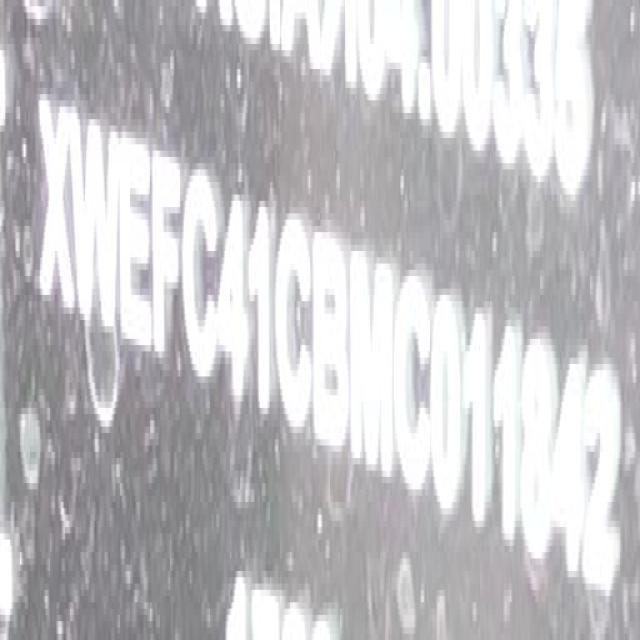0: (431, 297, 465, 521)
1: (494, 317, 520, 544), (462, 304, 487, 533), (252, 197, 273, 420)
2: (584, 366, 622, 593)
4: (548, 349, 582, 572), (217, 187, 249, 406)
8: (522, 333, 554, 557)
B: (311, 237, 349, 458)
C: (395, 268, 434, 501), (275, 210, 314, 435), (184, 162, 222, 390)
E: (116, 130, 154, 352)
F: (148, 132, 182, 384)
M: (348, 248, 396, 477)
W: (72, 108, 119, 342)
X: (34, 94, 74, 318)
